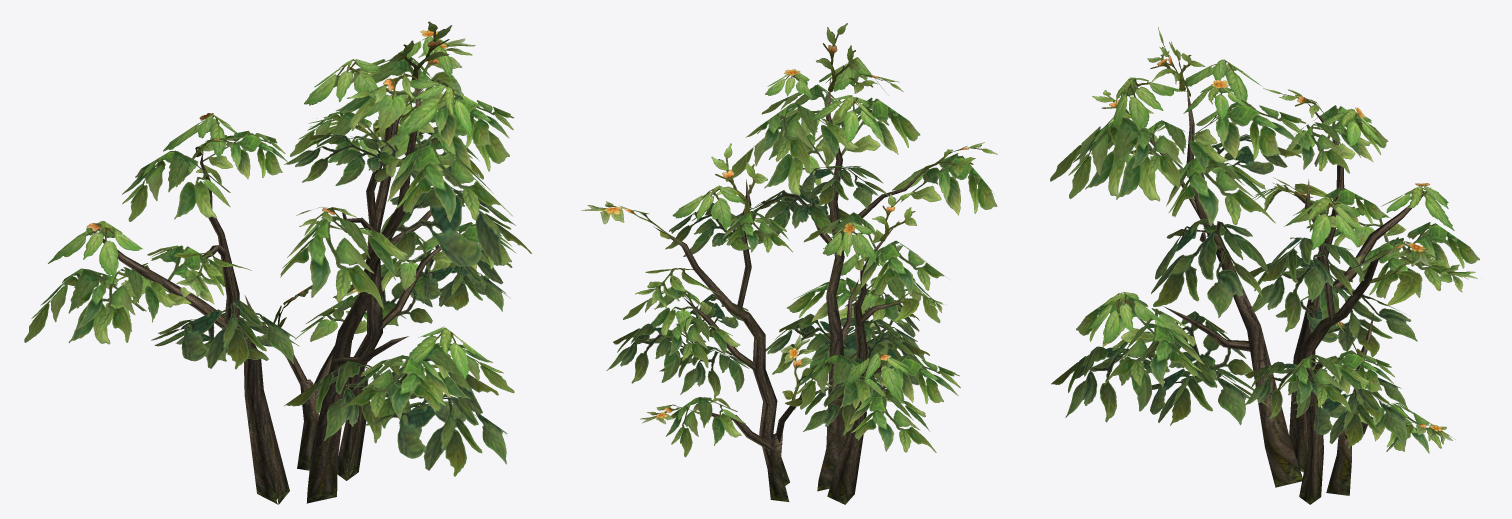
The model's file is Hangzhou_wj_002.FBX.
3 renders of one model, left to right at view 1: azimuth 30°, elevation 25°; view 2: azimuth 150°, elevation 25°; view 3: azimuth 270°, elevation 25°, orthographic. The views are drawn at different scales.
Visible parts, largest first — view 1: DrawCall_0479; view 2: DrawCall_0479; view 3: DrawCall_0479.
Part boxes in pixels (left/top/right/bottom): DrawCall_0479: left=24, top=21, right=532, bottom=504; DrawCall_0479: left=581, top=23, right=997, bottom=504; DrawCall_0479: left=1050, top=27, right=1481, bottom=504.
Size of the model in its own units: 172 by 179 by 156.
